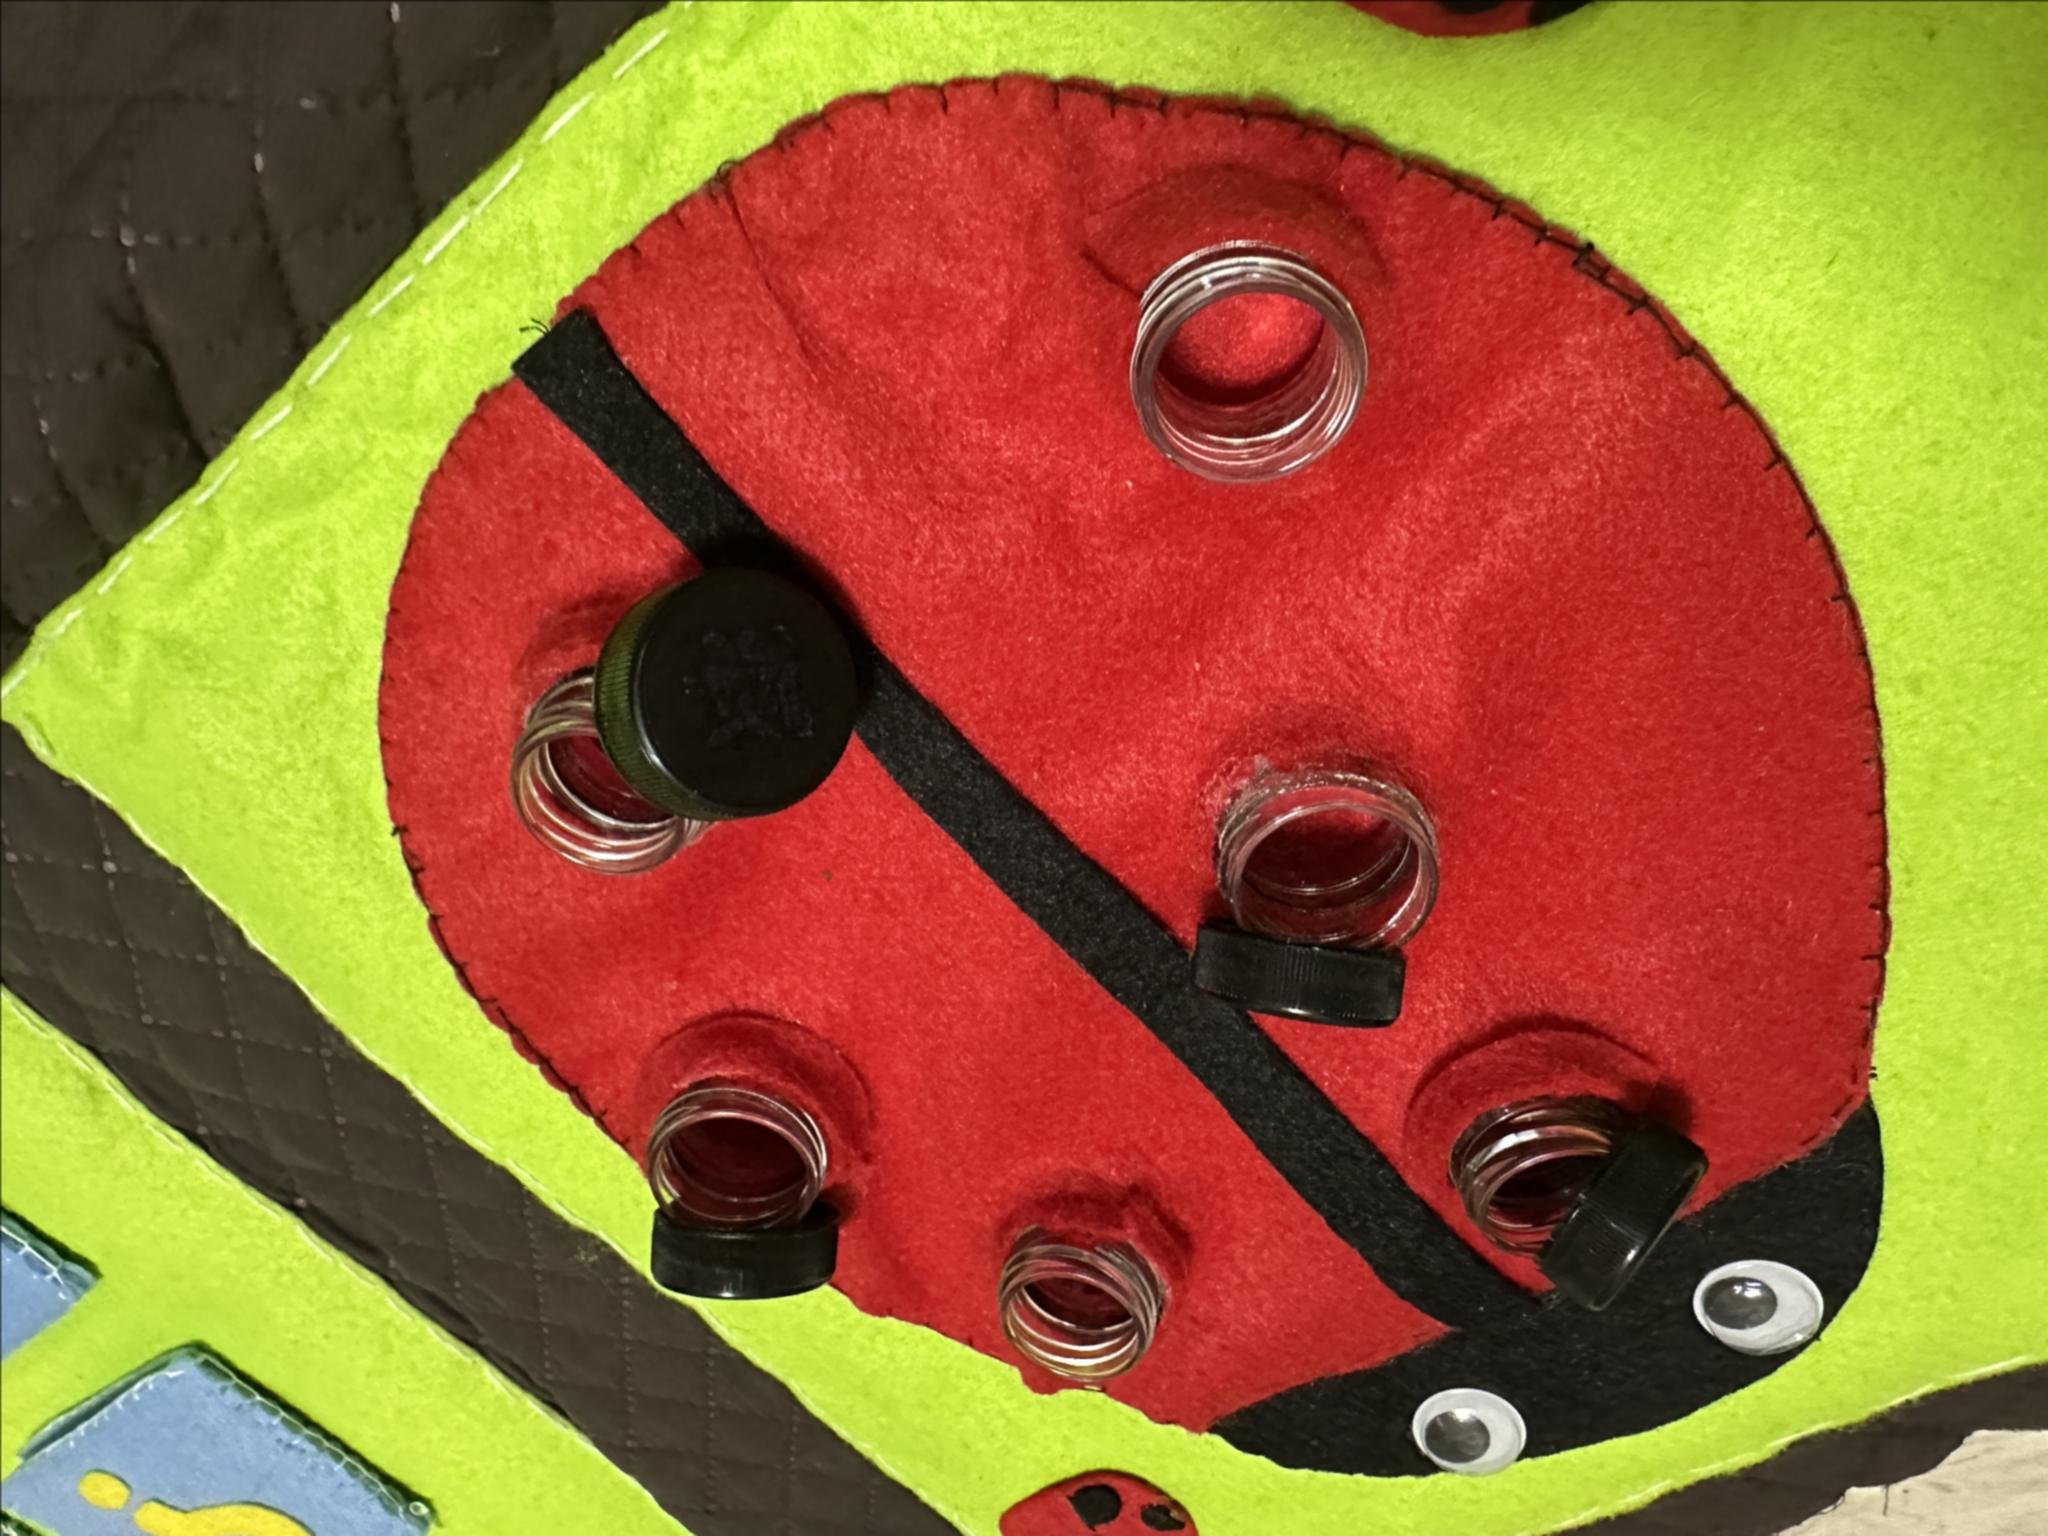cap_ng: (502, 555, 868, 892), (1184, 736, 1464, 1063), (1430, 1023, 1713, 1315), (635, 1016, 863, 1321)
